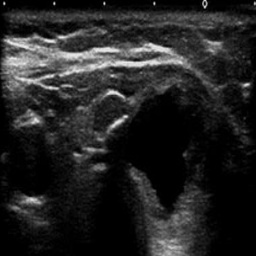mass: (119, 77, 208, 240)
